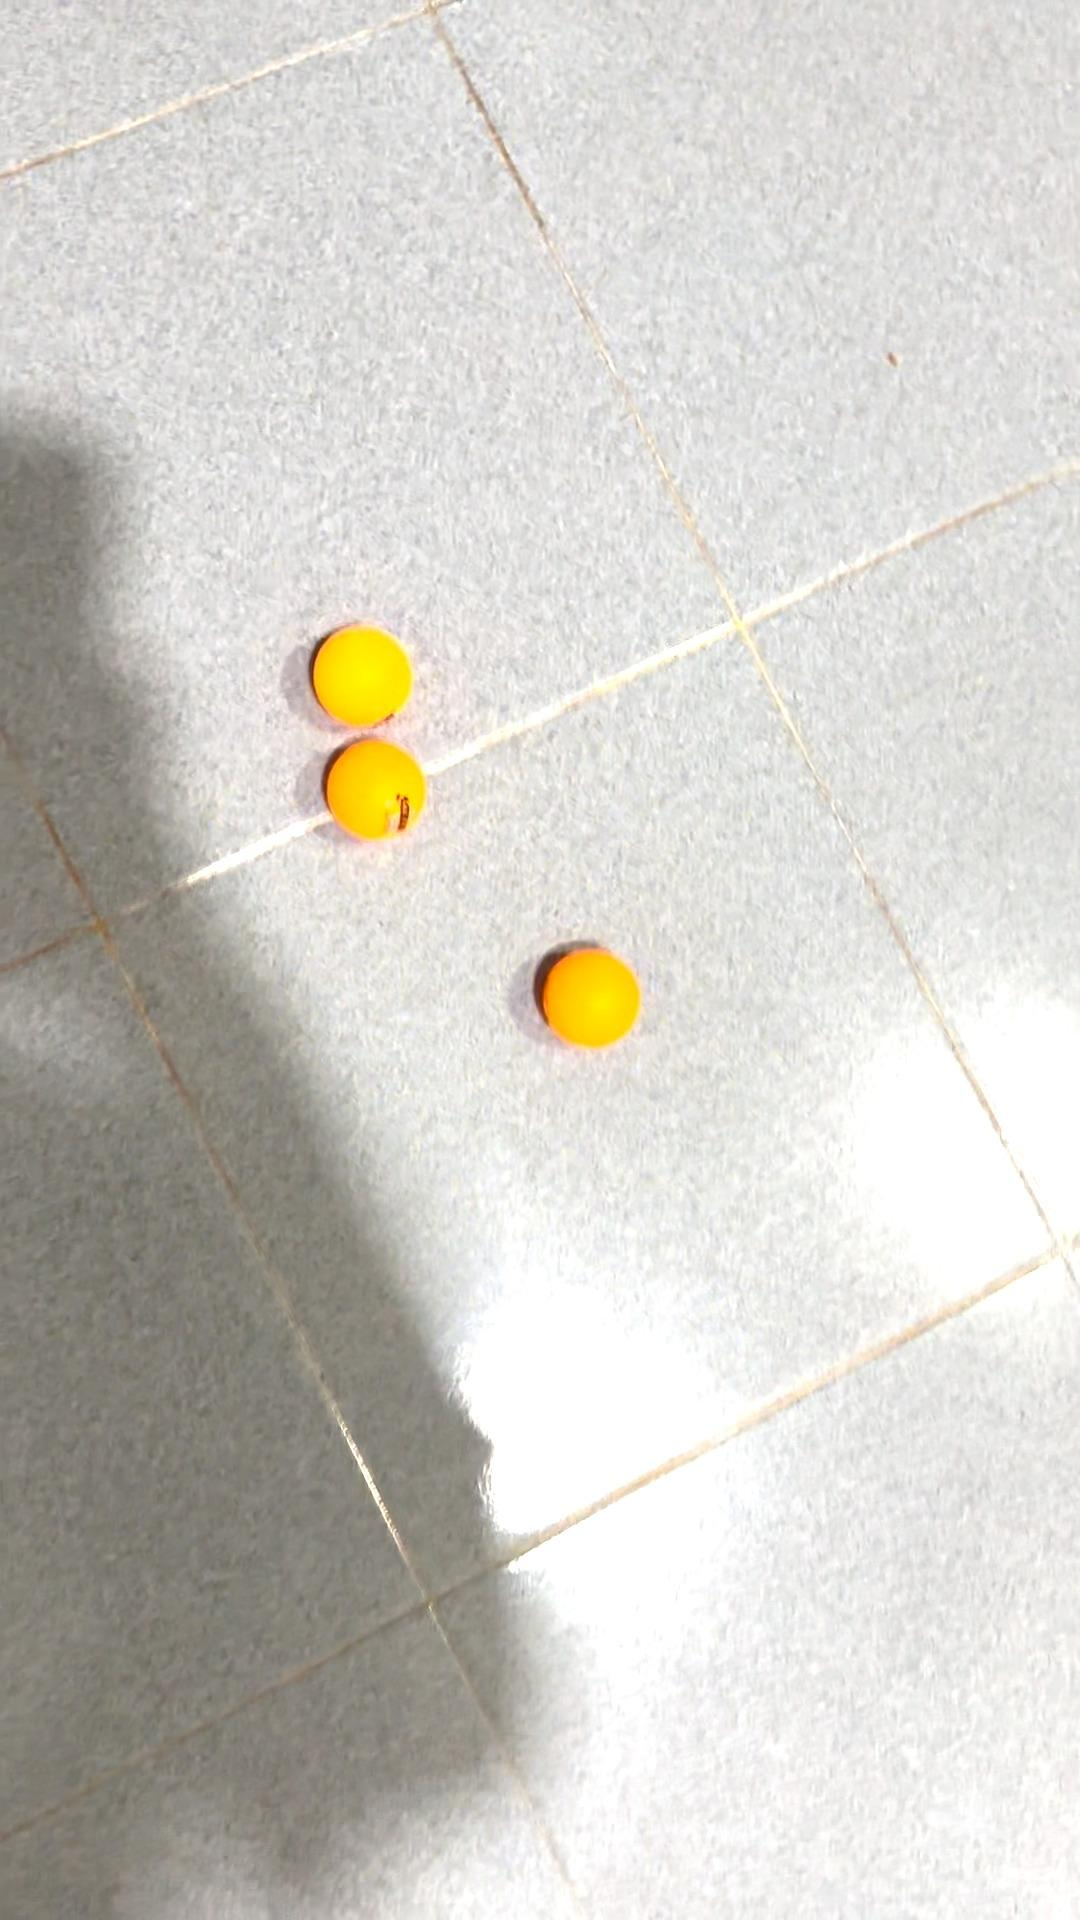oball: (527, 935, 657, 1058), (319, 727, 433, 855), (301, 617, 413, 727)
